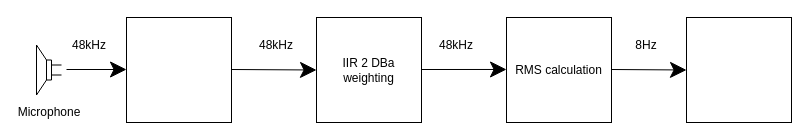
The diagram is 809 pixels wide and 140 high, and some of its shapes have lost their labels. Here are the shapes that lost their labels. From the top down, the box of each, then its label:
(126, 16, 232, 122): IIR 1 mic flattening
(686, 16, 792, 122): DBa calculation
